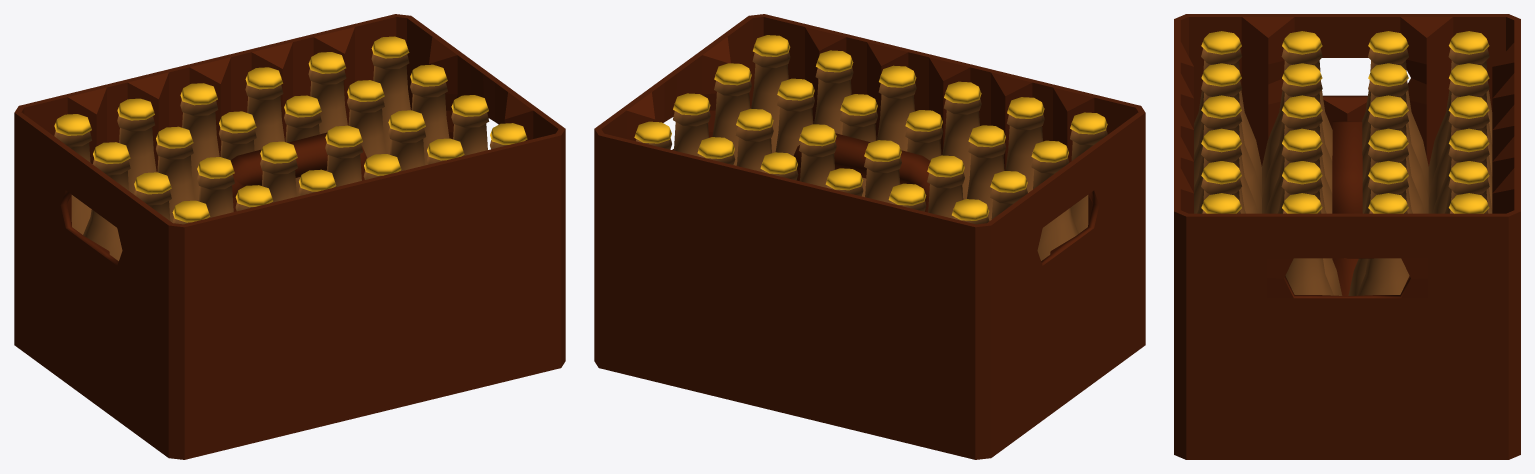
Rendered from DrinkCrate.fbx.
The picture shows the model from 3 angles, left to right: view 1: azimuth 30°, elevation 25°; view 2: azimuth 150°, elevation 25°; view 3: azimuth 270°, elevation 25°; orthographic projection. The views are drawn at different scales.
Parts seen in each view (by area): view 1: Cube.398; view 2: Cube.398; view 3: Cube.398.
Part boxes in pixels (box(x1,y1,x2,y2)): Cube.398: box(14, 14, 565, 459); Cube.398: box(594, 14, 1145, 459); Cube.398: box(1174, 14, 1520, 459).
Size of the model in its own units: 200 by 112 by 145.
